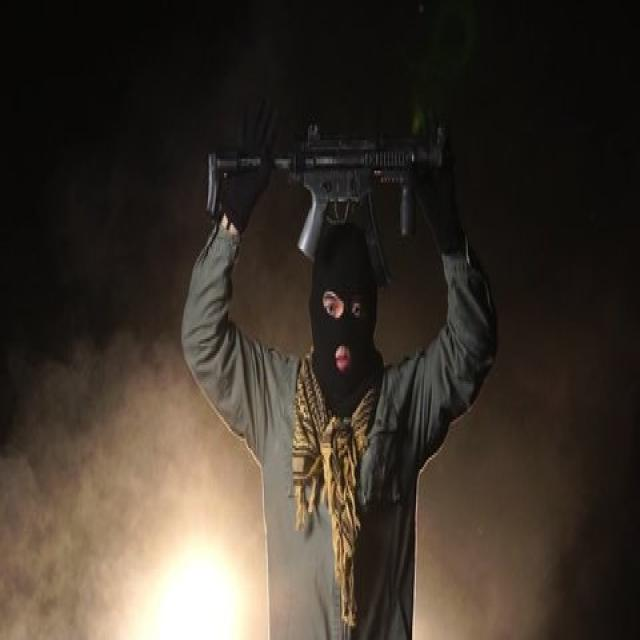Militant: (182, 77, 512, 640)
